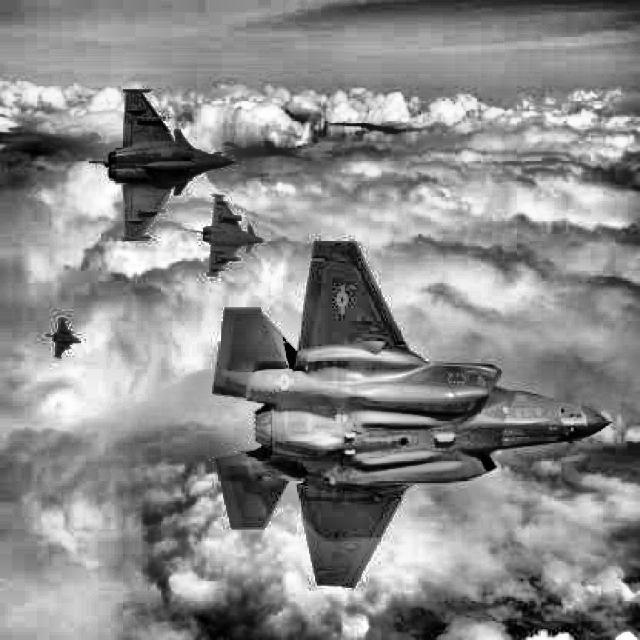EF2000: (191, 194, 263, 275)
F35: (212, 240, 613, 589)
Rafale: (89, 88, 236, 241), (47, 318, 81, 358)
